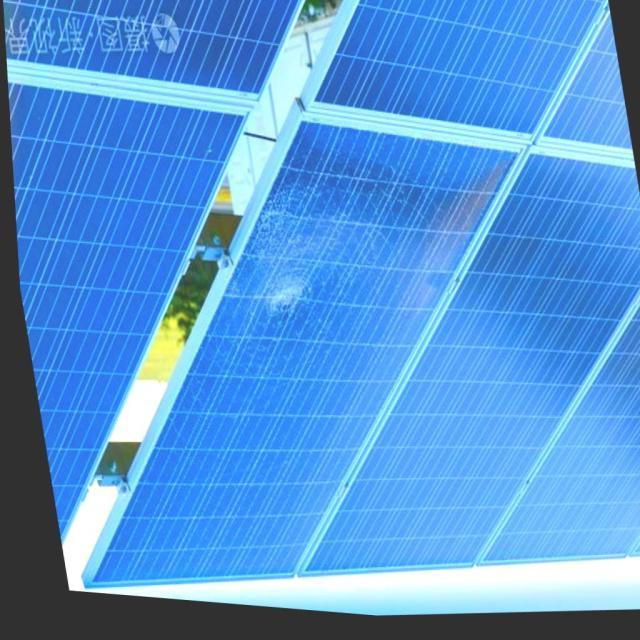cracked: (92, 132, 504, 585)
